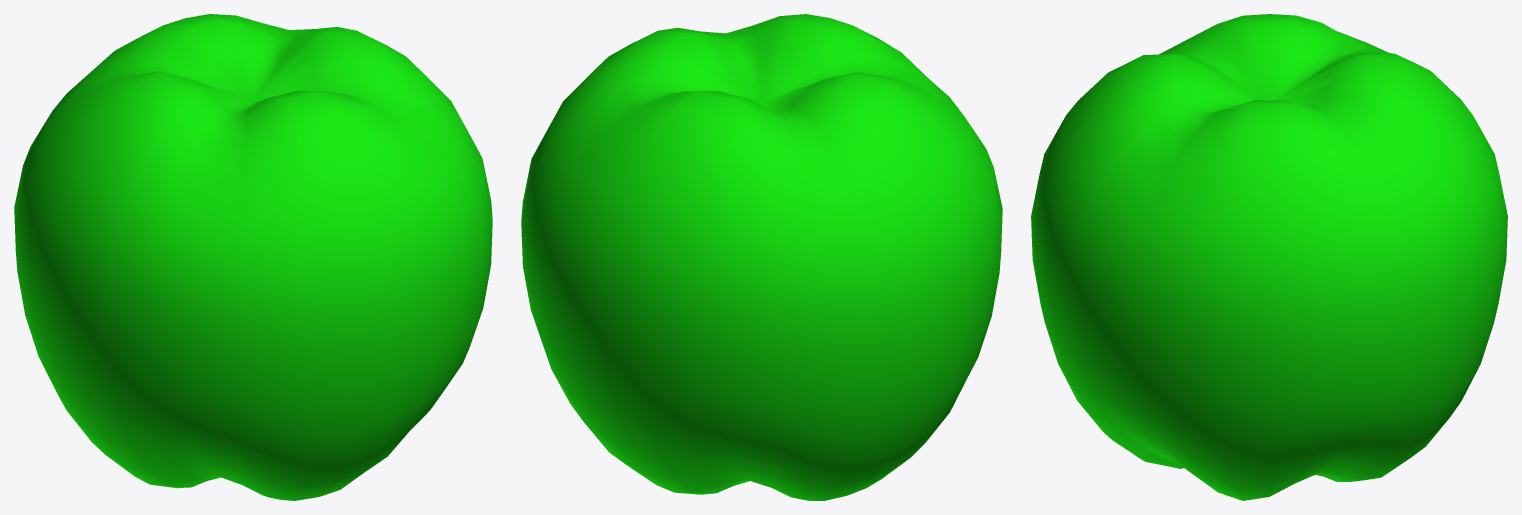
The model's file is apelH.fbx.
3 views of the same model, side by side, from view 1: azimuth 30°, elevation 25°; view 2: azimuth 150°, elevation 25°; view 3: azimuth 270°, elevation 25° (orthographic).
Parts seen in each view (by area): view 1: Apel.001; view 2: Apel.001; view 3: Apel.001.
Boxes of the visible parts, <box> form: Apel.001: <box>14,14,492,500</box>; Apel.001: <box>521,14,1002,500</box>; Apel.001: <box>1031,14,1507,500</box>.
Size of the model in its own units: 358 by 330 by 358.
